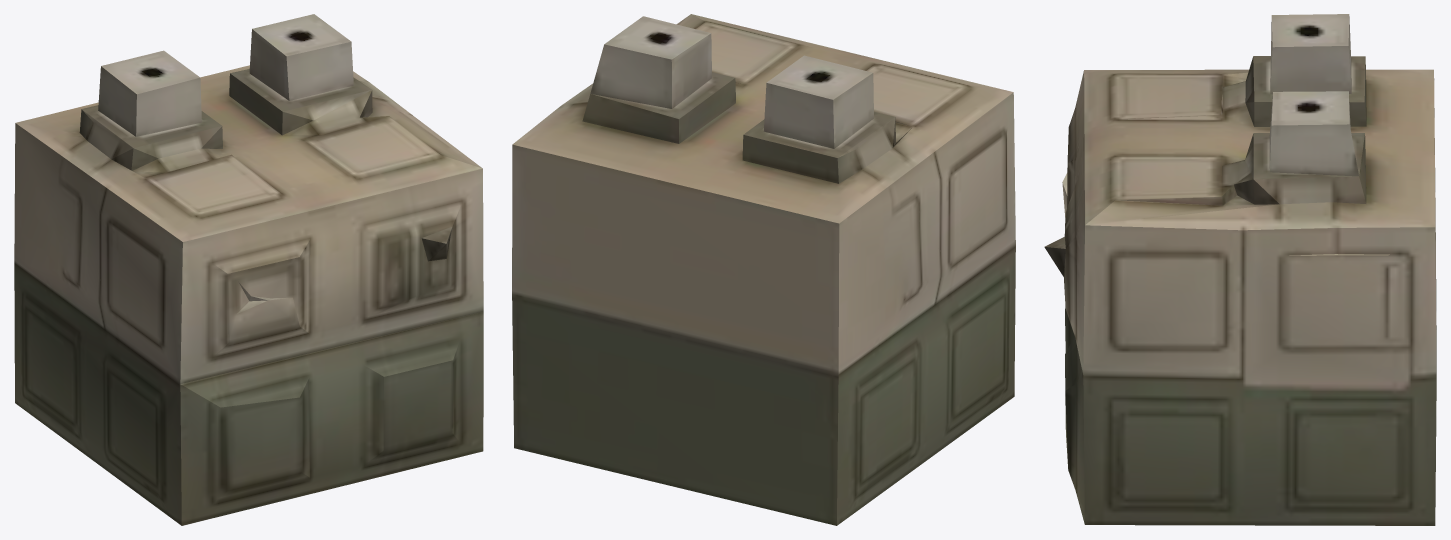
Rendered from battery-pack-a.glb.
3 views of the same model, side by side, from view 1: azimuth 30°, elevation 25°; view 2: azimuth 150°, elevation 25°; view 3: azimuth 270°, elevation 25° (orthographic). The views are drawn at different scales.
Parts seen in each view (by area): view 1: low; view 2: low; view 3: low.
Boxes of the visible parts, box(x1,y1,x2,y2) form: low: box(14, 14, 483, 525); low: box(512, 14, 1015, 525); low: box(1044, 14, 1436, 525).
Size of the model in its own units: 0.5483 by 0.5886 by 0.5515.
Materials: 1 (1 with a texture image).
